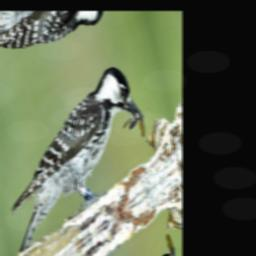Woodpecker: (0, 51, 151, 256)
